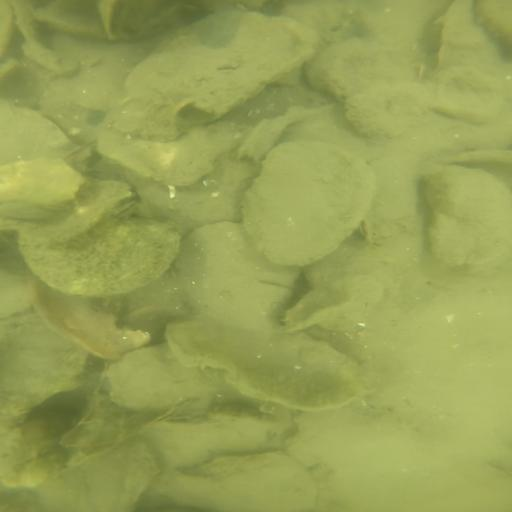Oyster-Closed: (161, 314, 387, 415), (128, 10, 319, 120), (239, 141, 377, 266), (16, 212, 189, 294), (97, 121, 248, 192), (25, 283, 151, 362), (156, 453, 319, 511), (410, 379, 500, 484), (38, 438, 156, 511), (108, 345, 224, 415), (306, 35, 425, 103), (26, 173, 138, 243), (345, 81, 433, 137), (433, 69, 508, 123)
Oyster-Open: (110, 203, 140, 223)
